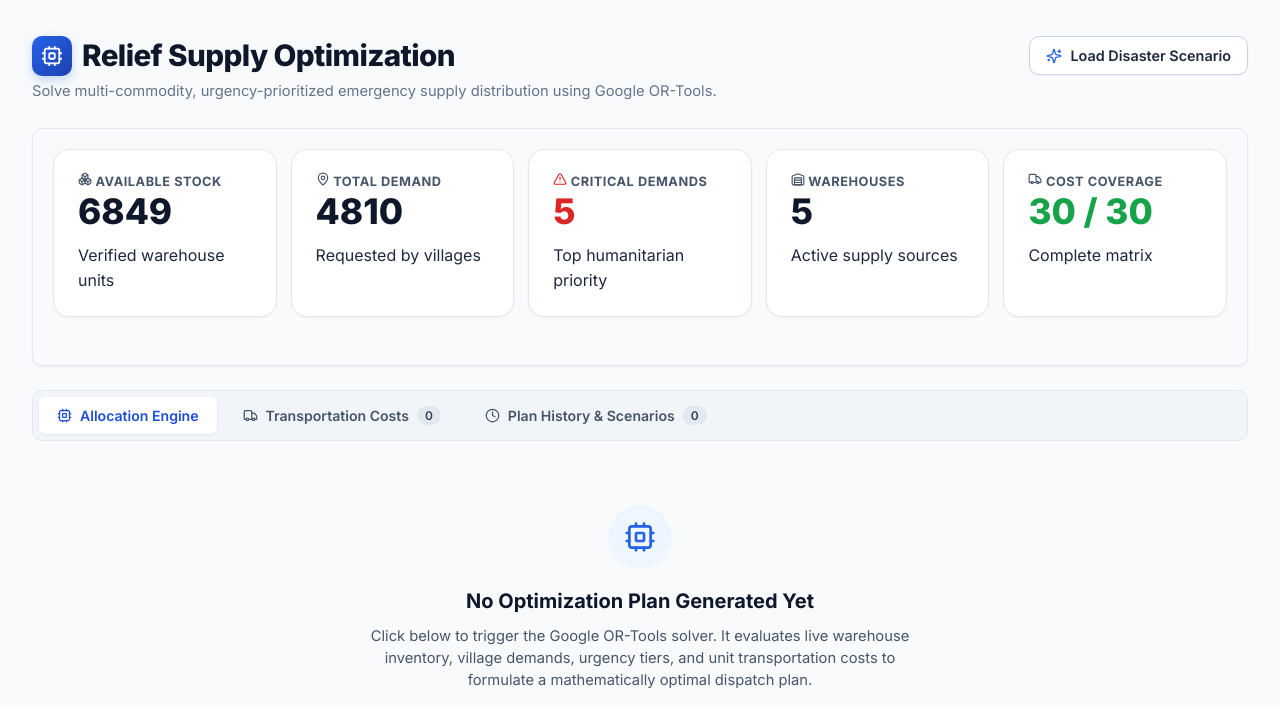
Test: Optimization Engine Page (OptimizationPage.jsx) › switching sub-tabs changes views between Solver, Costs and History
This screenshot has width=1280, height=707.
Expected: the text "Available Stock" is shown, [78,172,222,188]
Note: Switch to Transportation Costs sub-tab
Click the button "Transportation Costs 0": (342, 415) [225,397,459,434]
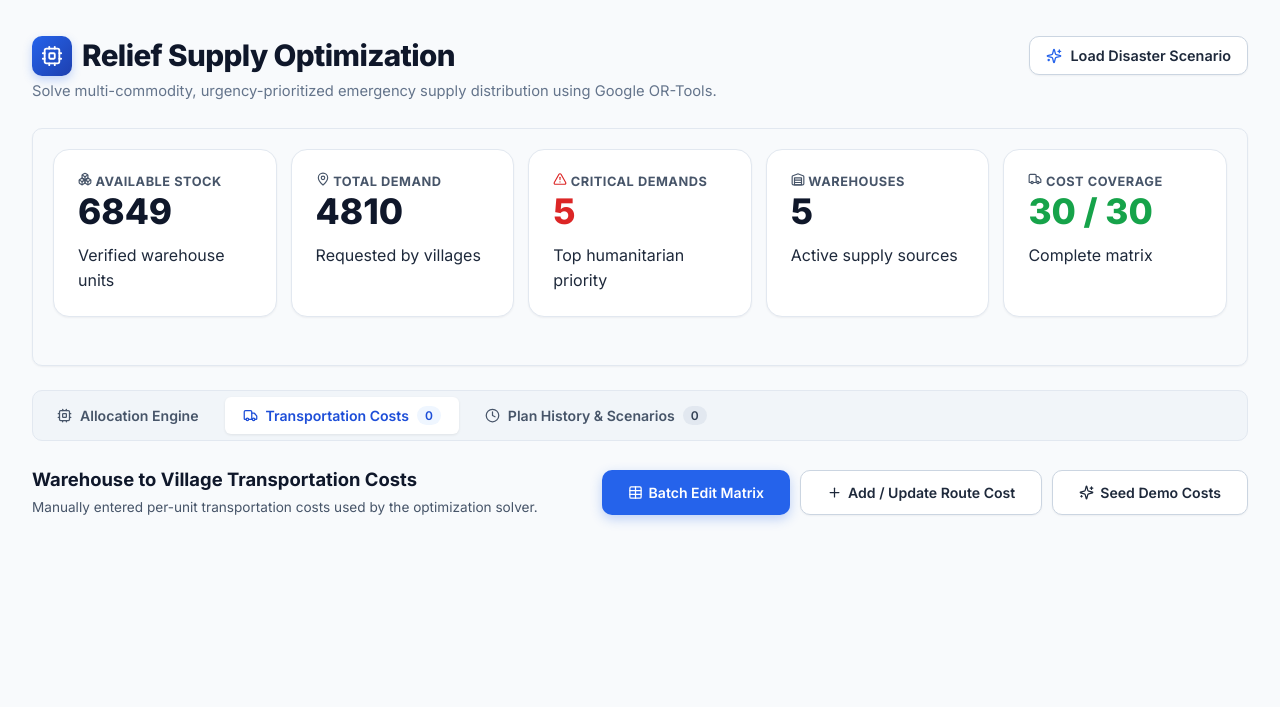
Result: the heading "Warehouse to Village Transportation Costs" is shown at [32,468,417,490]
Note: Switch to Plan History & Scenarios sub-tab
Click the button "Plan History & Scenarios 0": (596, 415) [467,397,725,434]
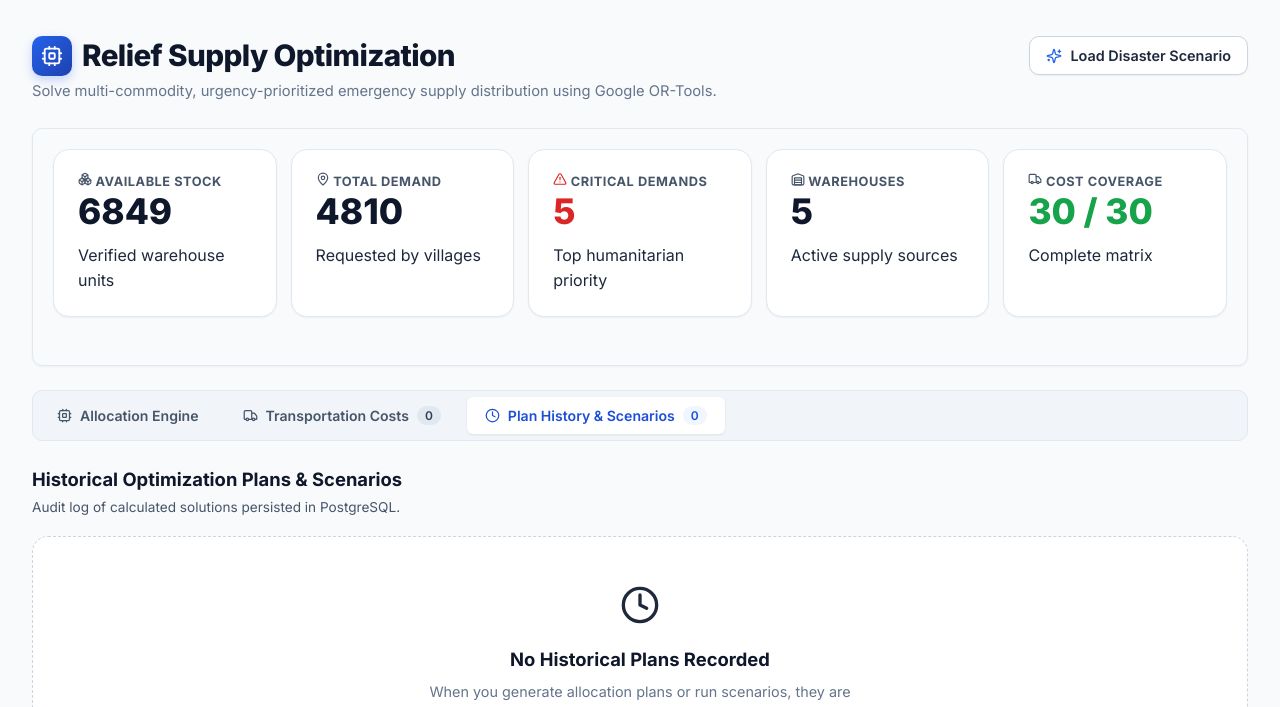
Result: the heading "No Historical Plans Recorded" is shown at [510,644,770,674]
